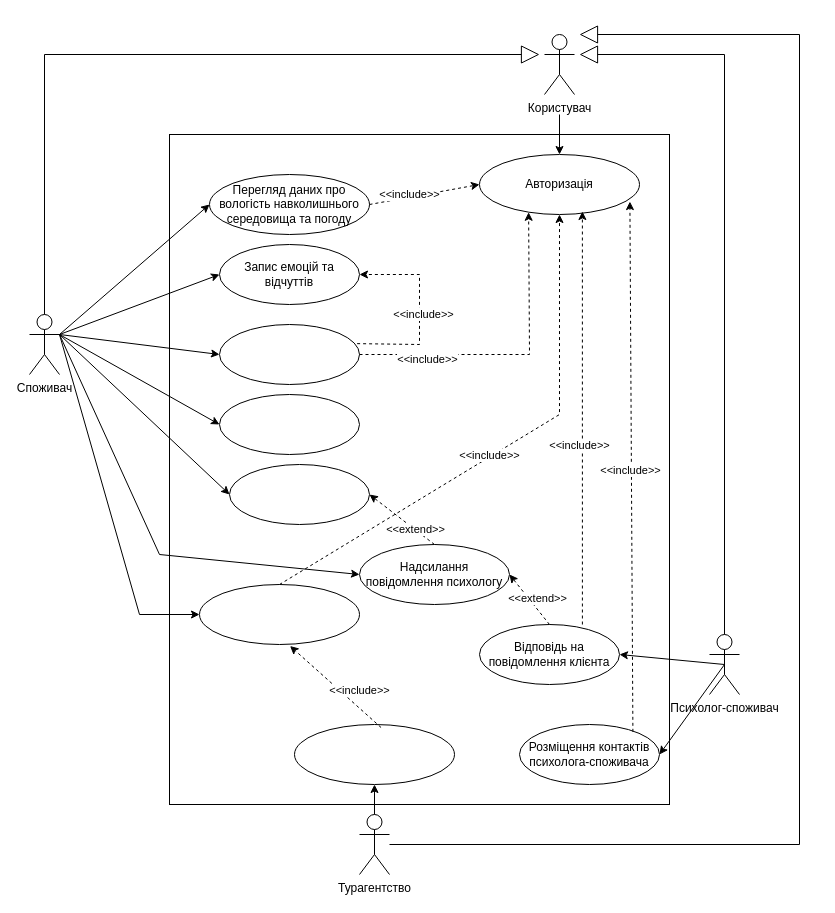
This 835x913 diagram has some shape labels left out. The shapes that lost their labels are listed below. From the top down, each one's box as (x1, y1, x2, y2) in pixels, then its label:
(218, 324, 360, 384): Перегляд статистики емоцій
(218, 394, 360, 454): Перегляд порад щодо стану
(228, 464, 370, 524): Отримання контактів психологів
(198, 584, 360, 644): Перегляд фото/відео та інформації про скульптури
(294, 724, 454, 784): Публікація статей про скульптури та тури для тур-агентств
